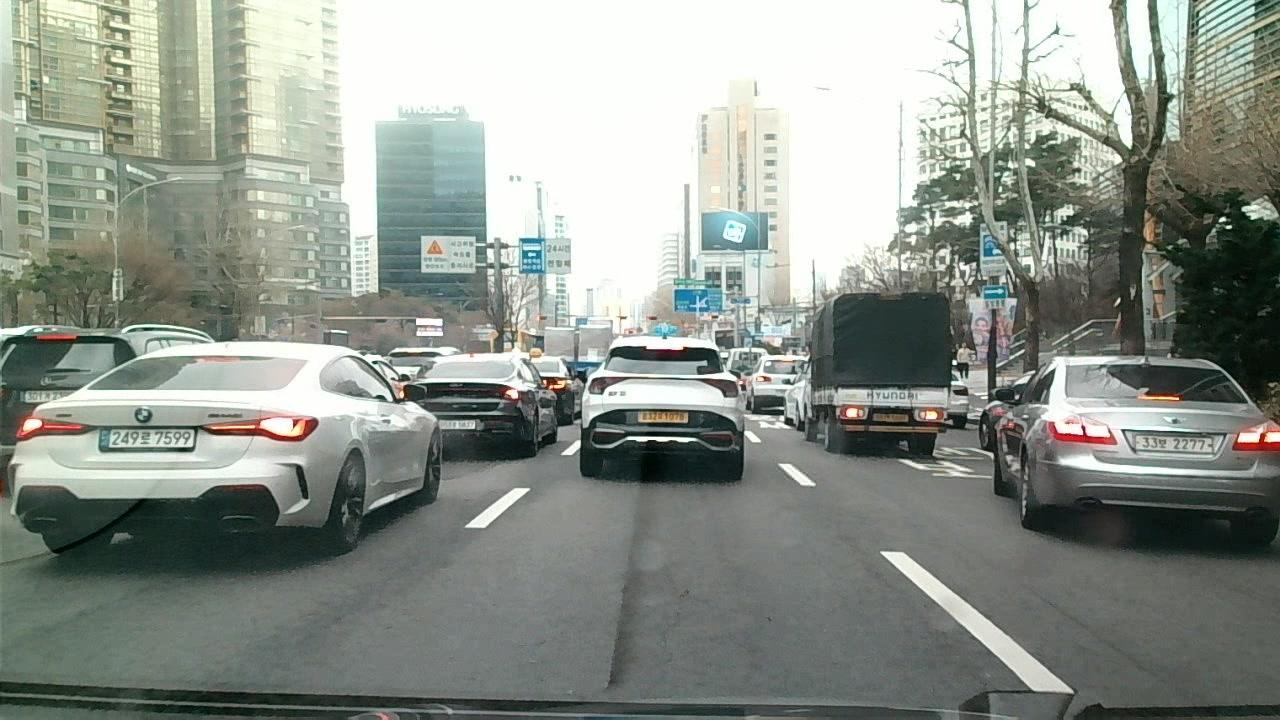banner: (603, 532, 636, 683)
